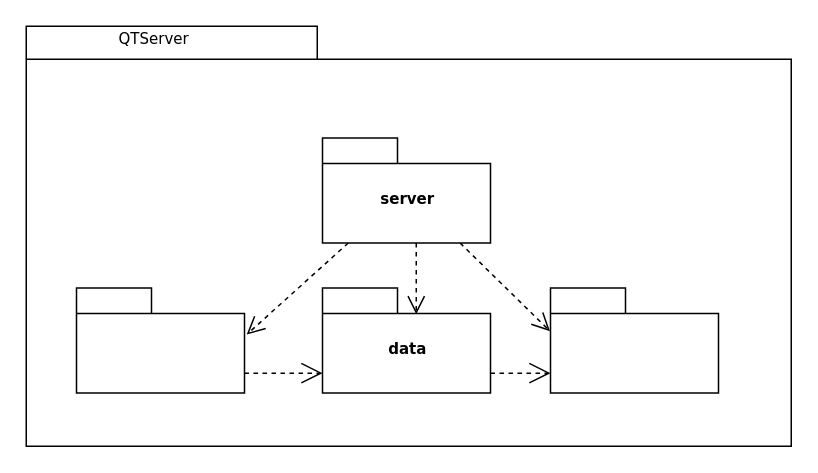
The diagram is 818 pixels wide and 473 high, and some of its shapes have lost their labels. The shapes that lost their labels are listed below. From the top down, each one's centre as x and y in pixels, then its label:
At [159,339]: "mining".
At [633,339]: "database".
